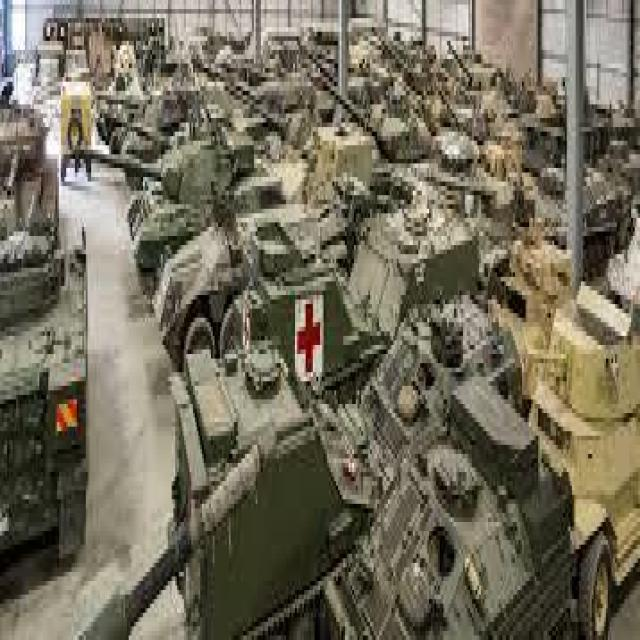Tanks: (146, 229, 573, 629), (1, 21, 106, 560), (300, 11, 562, 225), (108, 52, 289, 252)
